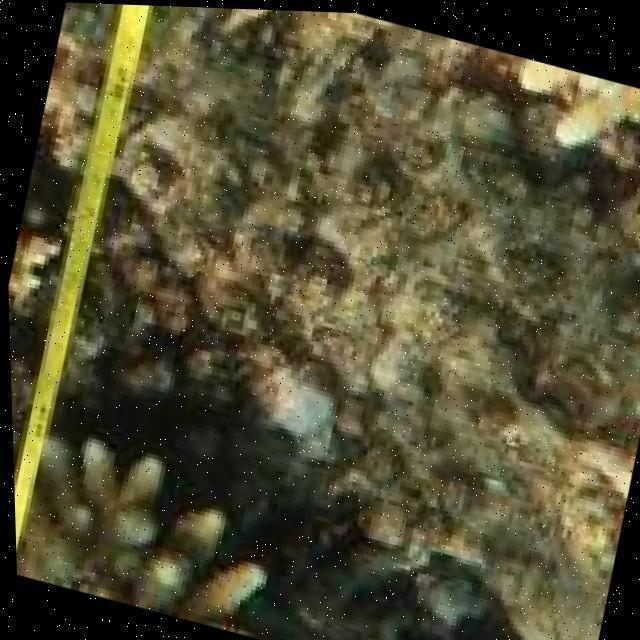Healthy Coral: (12, 440, 285, 623)
